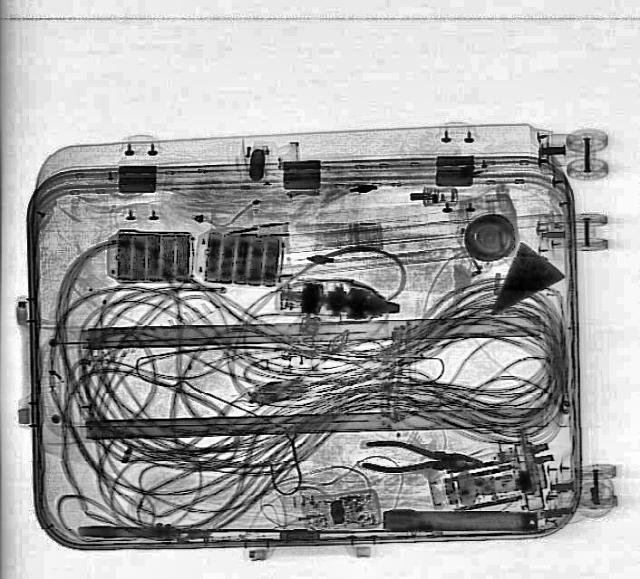Pliers: (361, 436, 483, 479)
